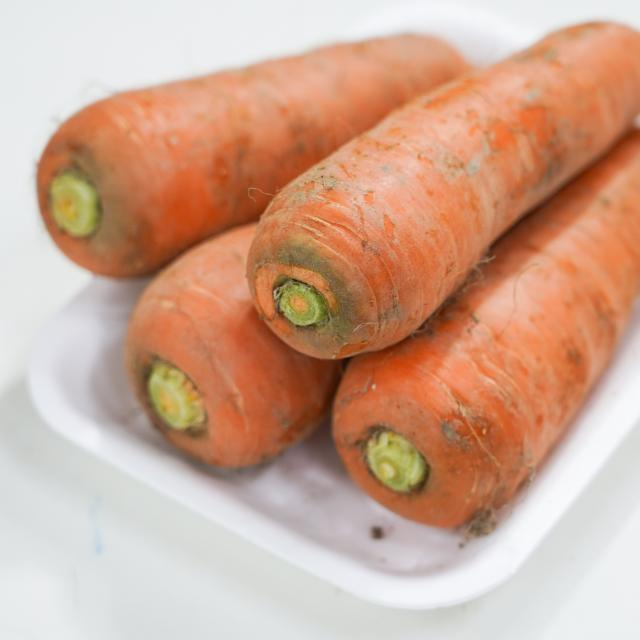carrot: (255, 24, 640, 355), (333, 130, 638, 536), (33, 28, 466, 282)
